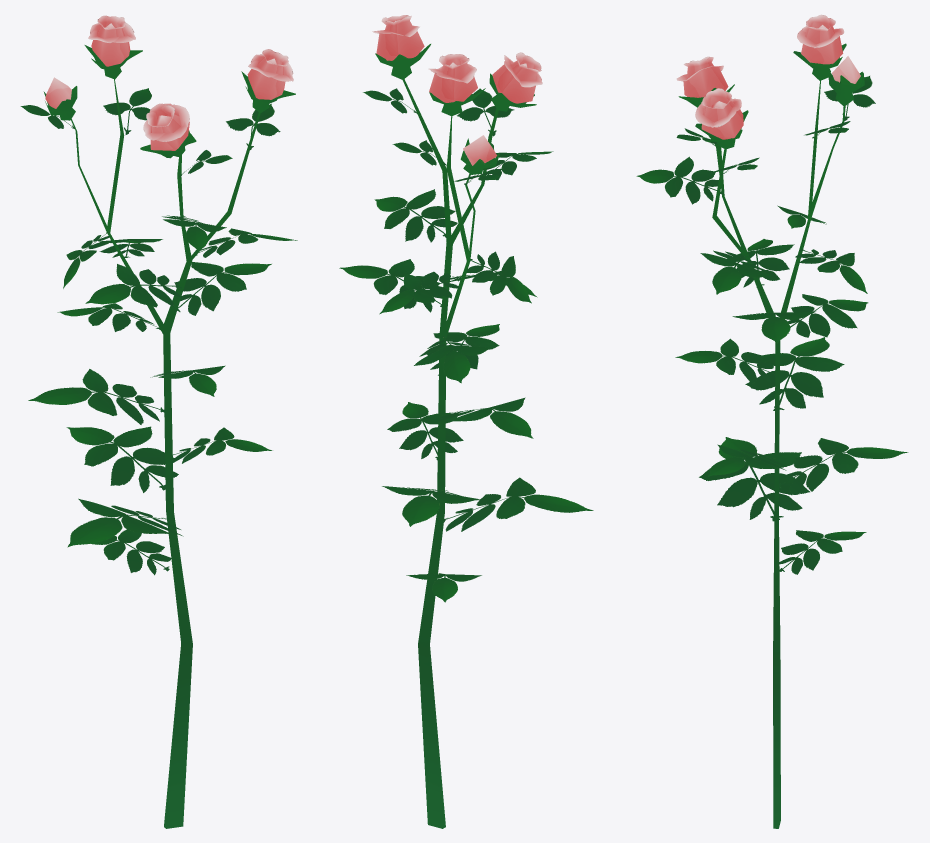
The model's file is PT_Rose_02.fbx.
The picture shows the model from 3 angles, left to right: view 1: azimuth 30°, elevation 25°; view 2: azimuth 150°, elevation 25°; view 3: azimuth 270°, elevation 25°; orthographic projection.
Visible parts, largest first — view 1: PT_Rose_02_LOD0; view 2: PT_Rose_02_LOD0; view 3: PT_Rose_02_LOD0.
Boxes of the visible parts, bbox=[...] form: PT_Rose_02_LOD0: bbox=[20, 15, 297, 828]; PT_Rose_02_LOD0: bbox=[339, 15, 593, 828]; PT_Rose_02_LOD0: bbox=[636, 14, 908, 828].
Size of what is drawn, in the model's own units: 44.96 by 141 by 46.32.
